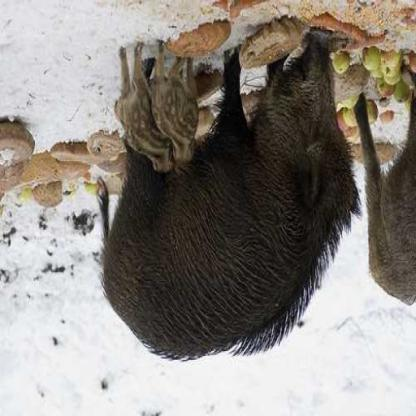boar: (84, 34, 358, 388), (152, 39, 206, 167), (106, 59, 161, 171)
